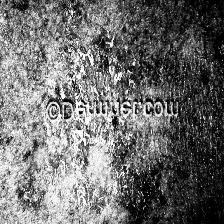Unclassified: (26, 124, 170, 210), (50, 11, 158, 95), (208, 0, 224, 76)
